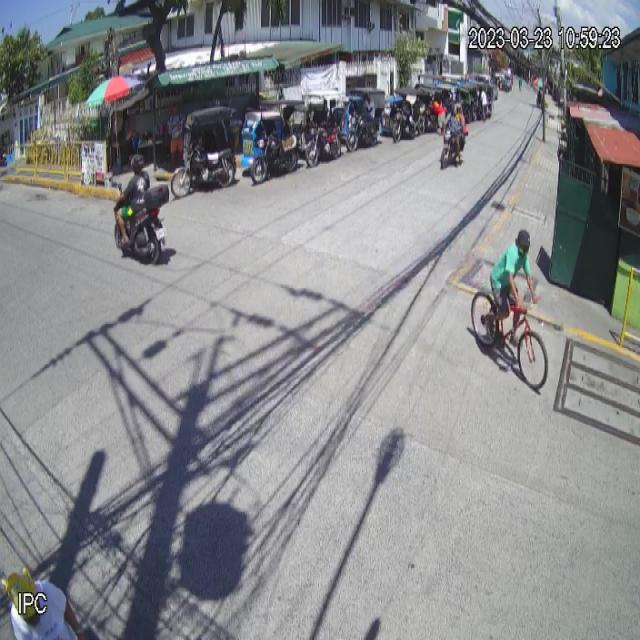Motorcycle: (109, 180, 171, 264)
